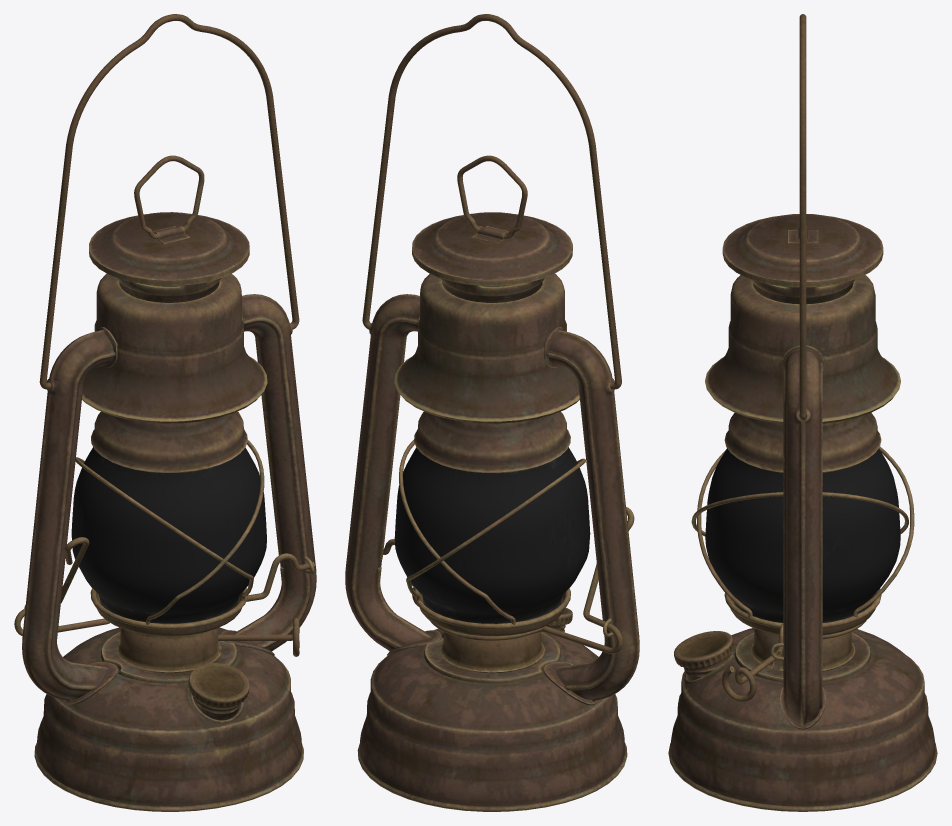
Rendered from Lantern_01_1k.glb.
The picture shows the model from 3 angles, left to right: view 1: azimuth 30°, elevation 25°; view 2: azimuth 150°, elevation 25°; view 3: azimuth 270°, elevation 25°; orthographic projection.
Visible parts, largest first — view 1: Lantern_01, Lantern_01_glass; view 2: Lantern_01, Lantern_01_glass; view 3: Lantern_01, Lantern_01_glass.
Part boxes in pixels (x1=…): Lantern_01: x1=14, y1=14, x2=316, y2=811; Lantern_01_glass: x1=71, y1=447, x2=266, y2=623; Lantern_01: x1=345, y1=14, x2=639, y2=811; Lantern_01_glass: x1=394, y1=447, x2=590, y2=623; Lantern_01: x1=668, y1=14, x2=937, y2=811; Lantern_01_glass: x1=705, y1=448, x2=900, y2=622.
Size of the model in its own units: 0.1221 by 0.2942 by 0.0972.
Materials: 2 (2 with a texture image).
